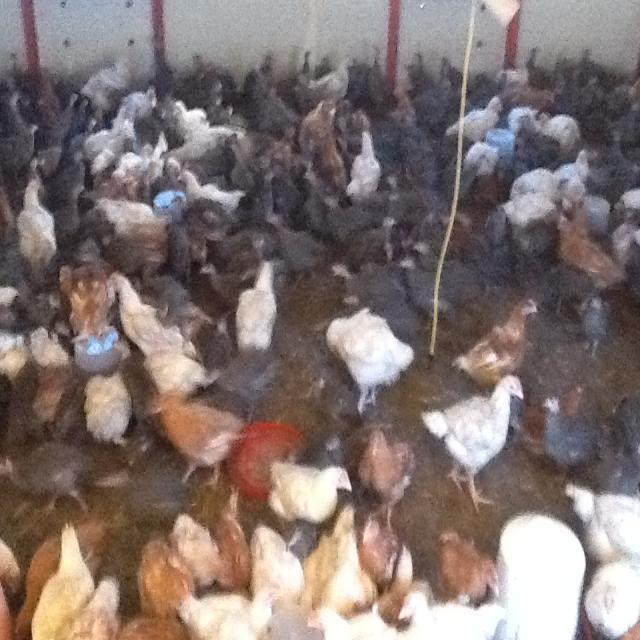poussin: (416, 380, 524, 504), (154, 385, 250, 494), (326, 306, 412, 418), (458, 290, 540, 401), (306, 500, 372, 626), (132, 344, 222, 422), (561, 476, 640, 564), (0, 430, 89, 508), (34, 521, 92, 640), (127, 529, 192, 635), (103, 270, 174, 367), (554, 198, 620, 298), (102, 466, 195, 532), (432, 529, 501, 617), (357, 429, 413, 536), (269, 454, 357, 520), (542, 386, 606, 476), (573, 550, 640, 634), (397, 593, 512, 640), (180, 586, 274, 640), (170, 225, 232, 301), (60, 262, 116, 346), (20, 520, 60, 636), (229, 252, 278, 346), (172, 512, 221, 602), (220, 341, 278, 416), (269, 208, 326, 284), (116, 215, 180, 279), (399, 248, 454, 322), (392, 102, 435, 196), (172, 166, 248, 219), (86, 370, 136, 448), (252, 532, 300, 612), (607, 394, 640, 501), (216, 500, 252, 598), (457, 87, 508, 154), (372, 550, 418, 622), (332, 258, 402, 305), (360, 502, 408, 570), (185, 46, 233, 112), (22, 184, 58, 268), (434, 156, 487, 213), (74, 58, 132, 109), (456, 135, 514, 185), (506, 180, 560, 233), (94, 192, 162, 234), (50, 182, 92, 250), (227, 126, 270, 192), (210, 218, 274, 262), (258, 121, 300, 188), (483, 206, 522, 278), (80, 571, 120, 640), (576, 287, 618, 352), (352, 210, 402, 263), (464, 65, 520, 112), (247, 49, 283, 115), (0, 528, 21, 640), (583, 81, 633, 128), (519, 148, 559, 206), (118, 127, 164, 177), (414, 226, 460, 274), (589, 130, 621, 198), (31, 327, 77, 374), (0, 329, 32, 395), (557, 145, 591, 207), (302, 98, 344, 148), (526, 42, 556, 112), (120, 76, 162, 126), (42, 81, 75, 144), (368, 163, 404, 220), (3, 112, 42, 163), (354, 138, 380, 212), (391, 74, 424, 132), (75, 121, 128, 156), (314, 146, 350, 196), (318, 56, 354, 106), (38, 370, 72, 422), (560, 42, 609, 78), (3, 41, 43, 82), (530, 216, 554, 284), (36, 135, 68, 185), (201, 76, 233, 126), (370, 52, 392, 120), (106, 122, 138, 168), (295, 191, 329, 233), (173, 98, 207, 140), (540, 110, 580, 144), (151, 55, 181, 99), (612, 215, 640, 261), (386, 180, 414, 223), (410, 45, 430, 101), (294, 48, 310, 110), (618, 177, 640, 222), (440, 52, 460, 101), (514, 96, 540, 133), (74, 90, 90, 143), (8, 81, 28, 123), (624, 148, 640, 190), (0, 281, 17, 320)
